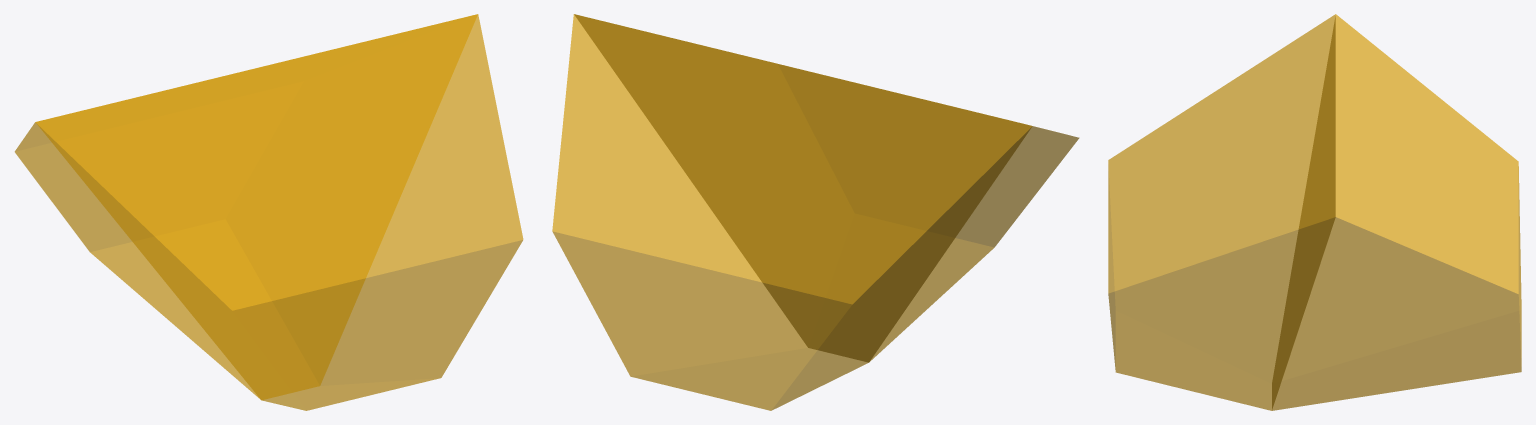
Rendered from SM_Veh_Ship_S_Rudder_03_Collision.fbx.
3 renders of one model, left to right at view 1: azimuth 30°, elevation 25°; view 2: azimuth 150°, elevation 25°; view 3: azimuth 270°, elevation 25°, orthographic. The views are drawn at different scales.
Visible parts, largest first — view 1: SM_Veh_Ship_S_Rudder_03_Collision; view 2: SM_Veh_Ship_S_Rudder_03_Collision; view 3: SM_Veh_Ship_S_Rudder_03_Collision.
Boxes of the visible parts, x1,y1,x2,y2 form: SM_Veh_Ship_S_Rudder_03_Collision: (14, 14, 523, 410); SM_Veh_Ship_S_Rudder_03_Collision: (552, 14, 1079, 410); SM_Veh_Ship_S_Rudder_03_Collision: (1108, 14, 1521, 410).
Size of the model in its own units: 277 by 179 by 238.
